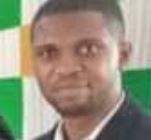without_facemask: (40, 70, 104, 115)
